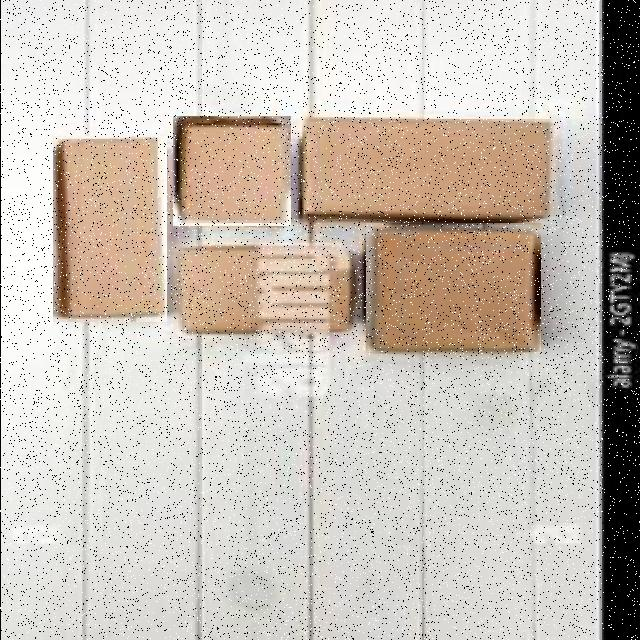normal: (294, 113, 558, 224), (365, 223, 540, 352), (52, 136, 166, 322), (172, 116, 290, 226)
